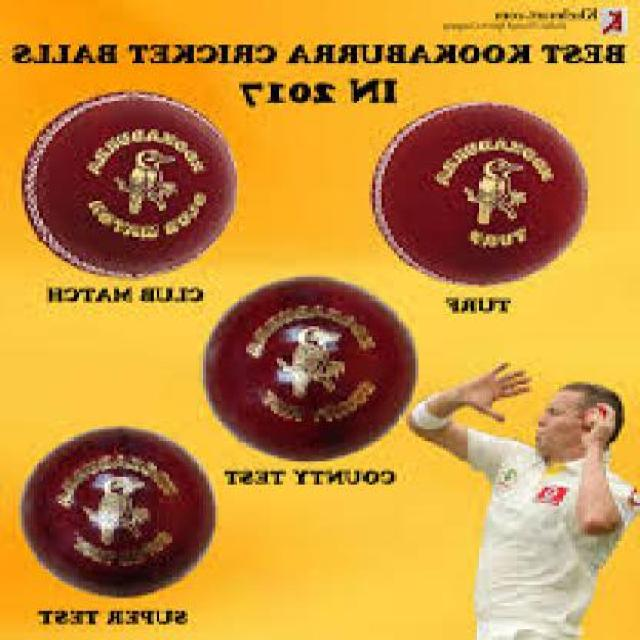ball: (343, 98, 600, 302)
